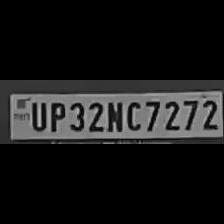2: (160, 98, 180, 132), (198, 97, 218, 130), (86, 98, 104, 132)
3: (65, 98, 84, 132)
7: (178, 97, 198, 130), (142, 98, 160, 132)
C: (124, 98, 142, 132)
N: (104, 98, 122, 132)
P: (47, 99, 65, 131)
U: (27, 99, 45, 131)
